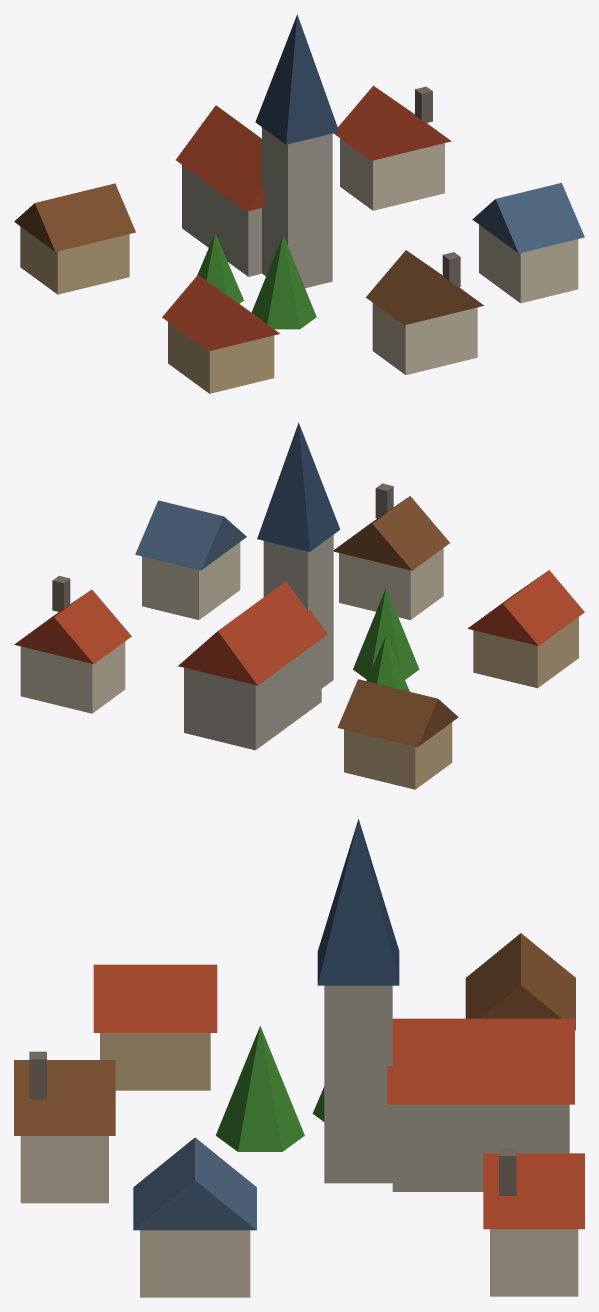
The model's file is town.glb.
3 renders of one model, top to bottom at view 1: azimuth 30°, elevation 25°; view 2: azimuth 150°, elevation 25°; view 3: azimuth 270°, elevation 25°, orthographic. The views are drawn at different scales.
Visible parts, largest first — view 1: tower, steeple, church_roof, house5/walls, house1/walls, house2/roof, house3/walls, church, house3/roof, house2/walls, house4/walls, house5/roof (+6 smaller); view 2: church, church_roof, steeple, house1/walls, house2/roof, house5/walls, house3/walls, house3/roof, tower, house2/walls, house1/roof, house5/roof (+6 smaller); view 3: church_roof, tower, church, house4/roof, house3/roof, steeple, house3/walls, house1/roof, house5/roof, house2/roof, tree1, house1/walls (+4 smaller).
Boxes of the visible parts, x1=… form: tower: x1=262, y1=127, x2=332, y2=288; steeple: x1=255, y1=14, x2=338, y2=144; church_roof: x1=176, y1=105, x2=264, y2=211; house5/walls: x1=372, y1=303, x2=477, y2=374; house1/walls: x1=340, y1=138, x2=444, y2=210; house2/roof: x1=14, y1=183, x2=135, y2=251; house3/walls: x1=479, y1=225, x2=578, y2=303; church: x1=182, y1=165, x2=261, y2=276; house3/roof: x1=472, y1=183, x2=584, y2=253; house2/walls: x1=20, y1=226, x2=129, y2=294; house4/walls: x1=168, y1=322, x2=274, y2=393; house5/roof: x1=366, y1=250, x2=483, y2=325; church: x1=184, y1=639, x2=321, y2=750; church_roof: x1=178, y1=581, x2=327, y2=685; steeple: x1=257, y1=422, x2=340, y2=551; house1/walls: x1=20, y1=641, x2=125, y2=713; house2/roof: x1=337, y1=679, x2=458, y2=747; house5/walls: x1=339, y1=548, x2=443, y2=620; house3/walls: x1=142, y1=542, x2=240, y2=619; house3/roof: x1=135, y1=500, x2=246, y2=570; tower: x1=263, y1=535, x2=333, y2=688; house2/walls: x1=344, y1=722, x2=452, y2=789; house1/roof: x1=14, y1=589, x2=131, y2=663; house5/roof: x1=333, y1=496, x2=449, y2=570; church_roof: x1=387, y1=1018, x2=574, y2=1104; tower: x1=324, y1=985, x2=392, y2=1183; church: x1=392, y1=1104, x2=569, y2=1191; house4/roof: x1=93, y1=964, x2=217, y2=1032; house3/roof: x1=133, y1=1137, x2=256, y2=1230; steeple: x1=317, y1=819, x2=399, y2=985; house3/walls: x1=140, y1=1230, x2=250, y2=1297; house1/roof: x1=483, y1=1153, x2=584, y2=1229; house5/roof: x1=14, y1=1060, x2=115, y2=1135; house2/roof: x1=465, y1=933, x2=575, y2=1030; tree1: x1=216, y1=1026, x2=304, y2=1151; house1/walls: x1=490, y1=1229, x2=578, y2=1296.
Size of the model in its own units: 0.562 by 0.35 by 0.517.
